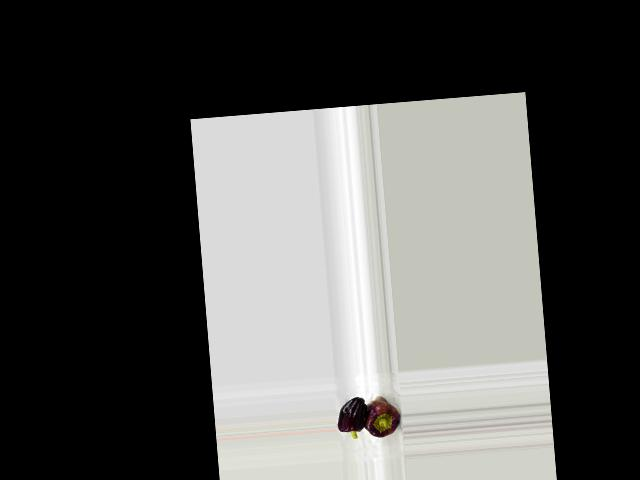bell_pepper: (360, 387, 403, 446)
